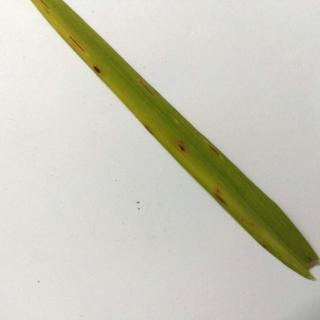bercak-Cokelat: (88, 60, 106, 84), (172, 140, 194, 156)
